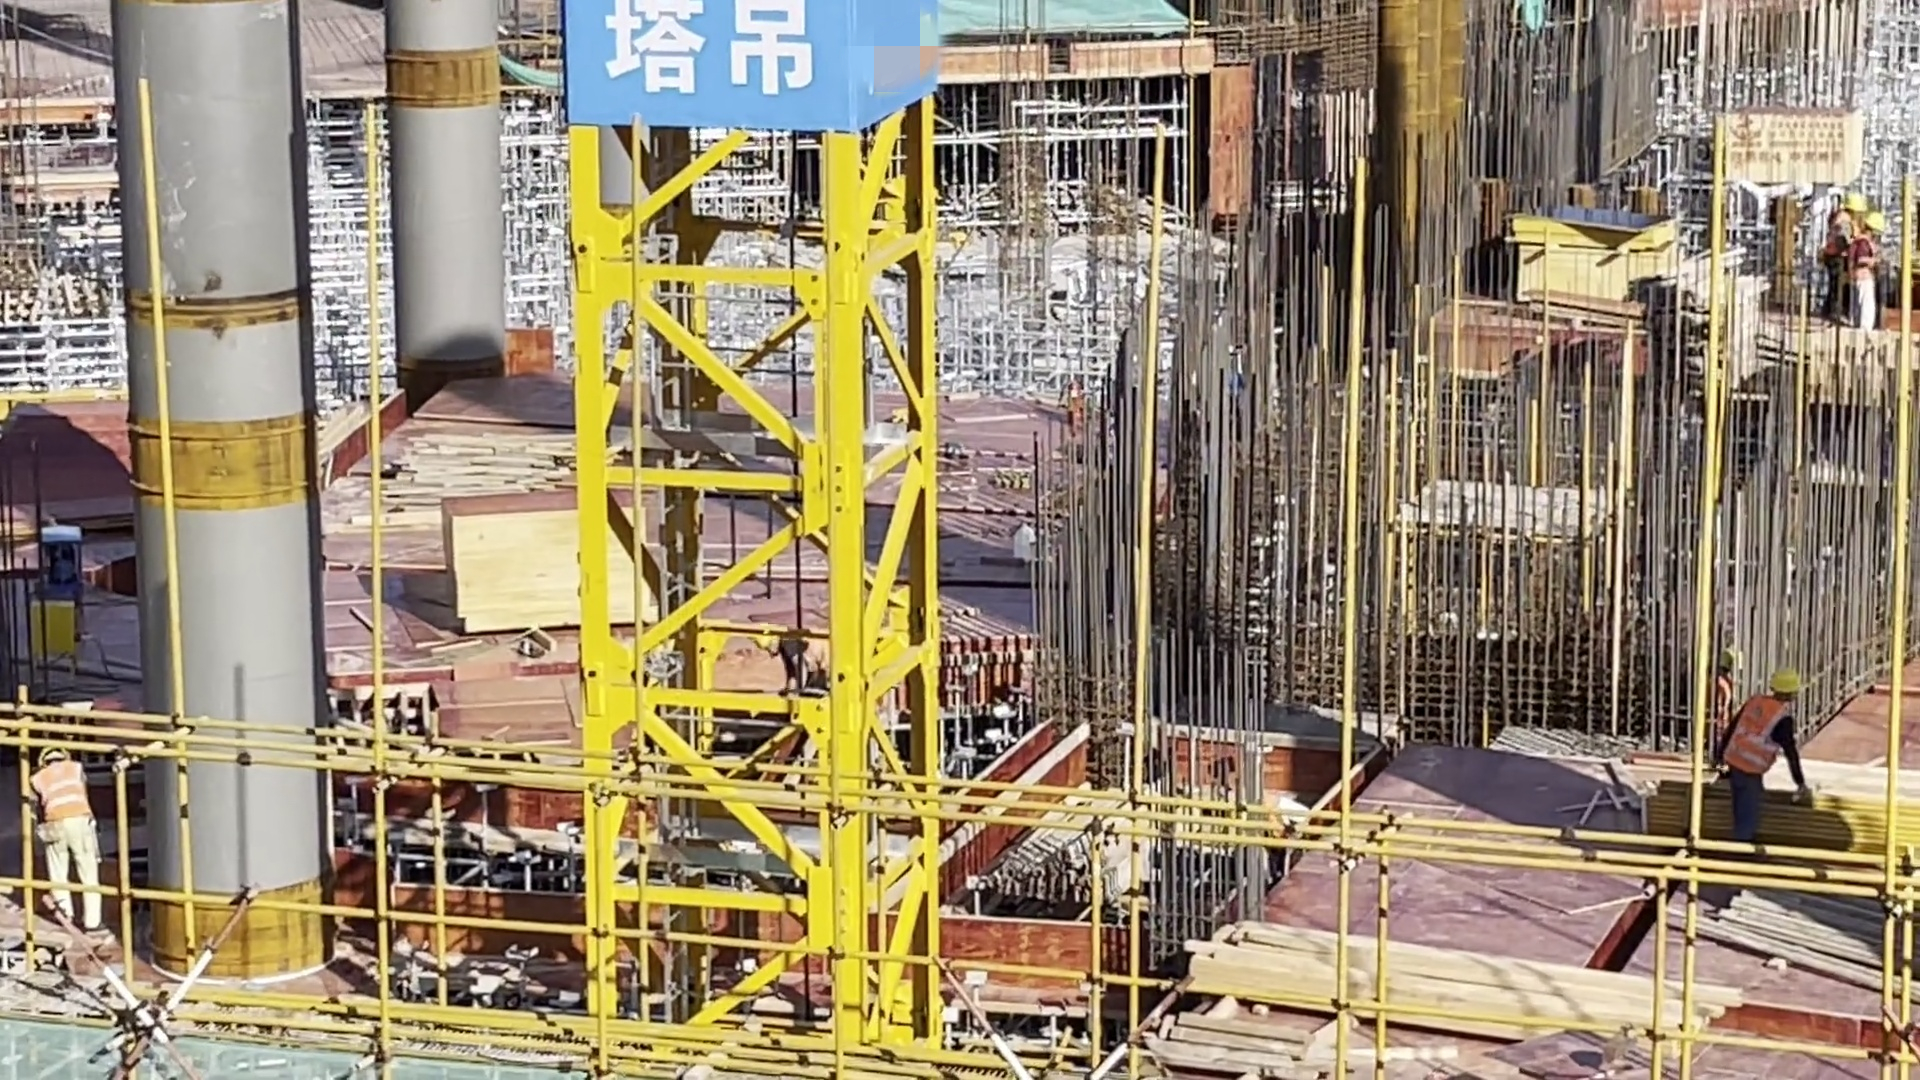board: (458, 497, 656, 671), (1714, 112, 1871, 192)
cutter: (1, 491, 81, 627)
ebox: (33, 601, 81, 654)
helmet: (34, 739, 76, 762), (746, 627, 781, 649)
person: (34, 740, 126, 933), (753, 593, 853, 695), (1731, 675, 1791, 826), (1858, 213, 1884, 336), (1703, 641, 1748, 705), (1836, 196, 1858, 290)
vest: (28, 752, 91, 817), (784, 624, 843, 691), (1730, 708, 1784, 778), (1711, 679, 1739, 721), (1866, 236, 1890, 285), (1826, 216, 1845, 269)
wood: (1181, 912, 1698, 1049), (1648, 291, 1747, 392)
